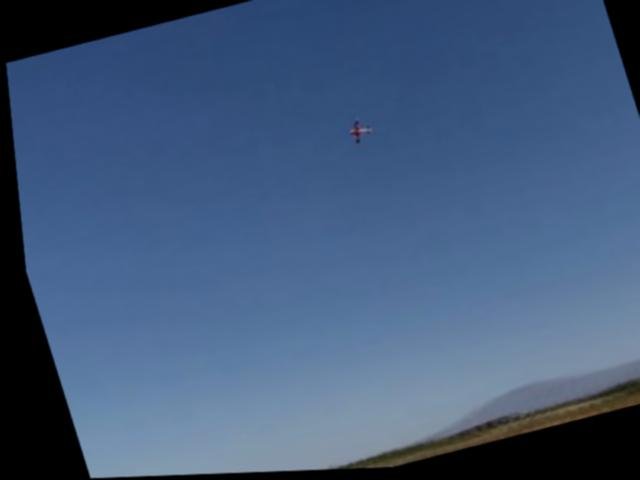uav: (335, 113, 376, 150)
